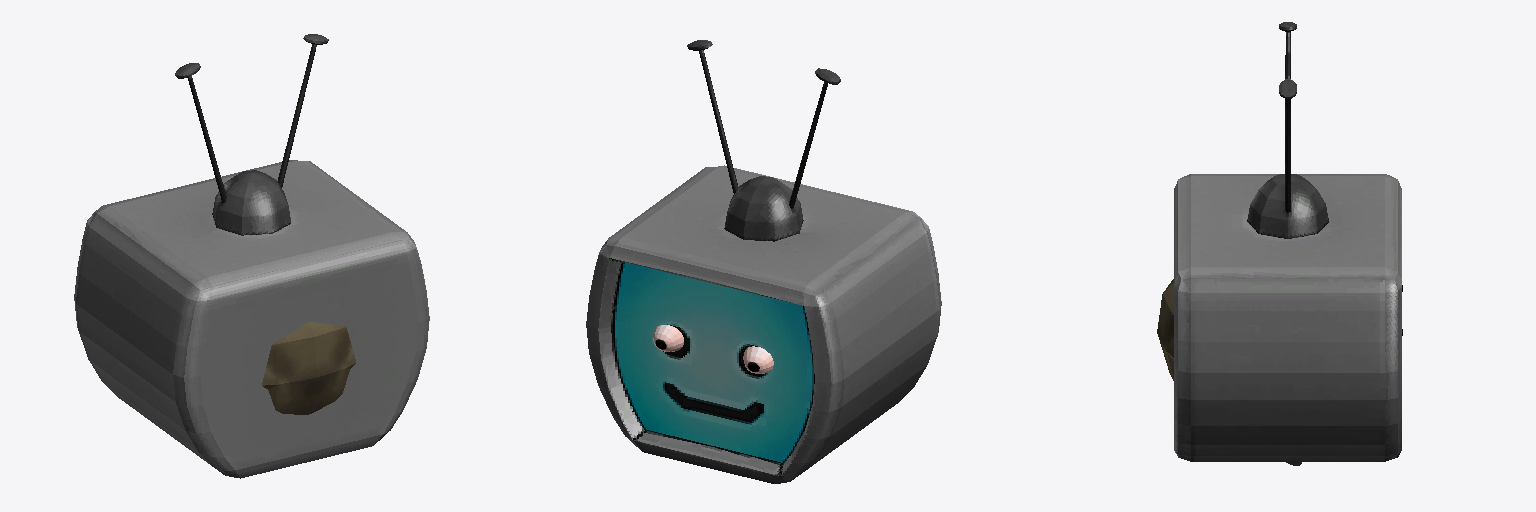
The picture shows the model from 3 angles: view 1: azimuth 30°, elevation 25°; view 2: azimuth 150°, elevation 25°; view 3: azimuth 270°, elevation 25°; orthographic projection.
Visible parts, largest first — view 1: Handle1, Head1; view 2: Handle1, Head1; view 3: Handle1, Head1.
Boxes of the visible parts, x1,y1,x2,y2 form: Handle1: [74, 34, 429, 478]; Head1: [262, 322, 355, 414]; Handle1: [586, 40, 941, 483]; Head1: [653, 325, 773, 373]; Handle1: [1174, 22, 1401, 461]; Head1: [1157, 279, 1402, 465].
Size of the model in its own units: 1.81 by 2.76 by 1.51.
Materials: 2 (2 with a texture image).